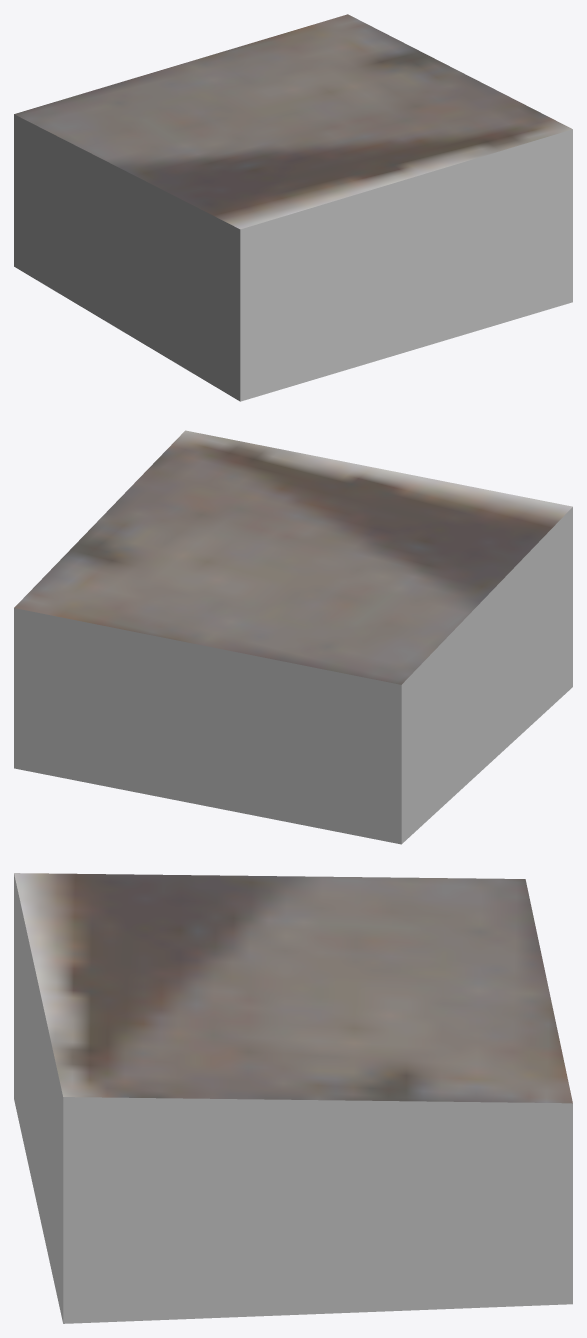
File: DEBW_0010007Tx8R.gltf
3 views of the same model, one above another, from view 1: azimuth 30°, elevation 25°; view 2: azimuth 150°, elevation 25°; view 3: azimuth 270°, elevation 25° (orthographic). The views are drawn at different scales.
Visible parts, largest first — view 1: Z_UP; view 2: Z_UP; view 3: Z_UP.
Boxes of the visible parts, x1,y1,x2,y2 form: Z_UP: (14, 14, 572, 401); Z_UP: (14, 430, 572, 844); Z_UP: (14, 873, 572, 1323).
Bounding box in the file's own units: 6.48 × 2.8 × 6.25.
Materials: 2 (1 with a texture image).
